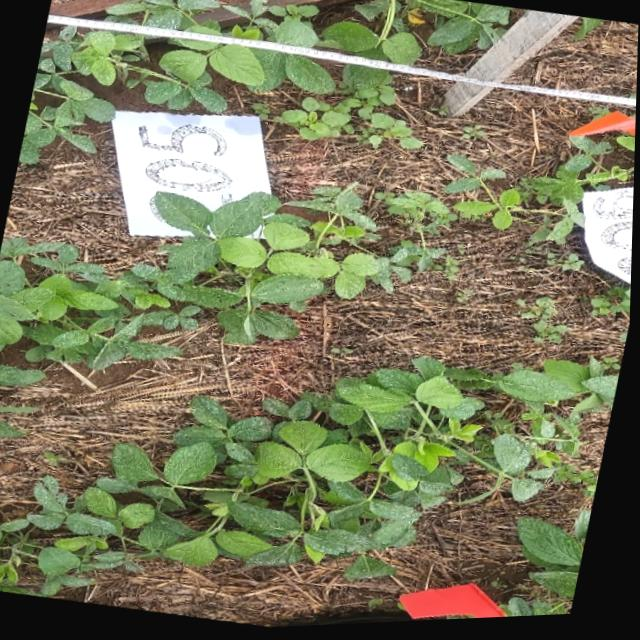caruru_weed: (276, 68, 422, 152), (519, 300, 573, 348), (520, 244, 589, 276), (586, 291, 633, 325), (460, 292, 475, 305)
soy_plant: (0, 359, 622, 598), (157, 142, 636, 345), (0, 190, 375, 351), (20, 26, 336, 162), (105, 0, 513, 68), (0, 265, 97, 361), (27, 315, 182, 370), (522, 516, 594, 606), (252, 311, 300, 340), (505, 602, 574, 621), (0, 365, 46, 385)
